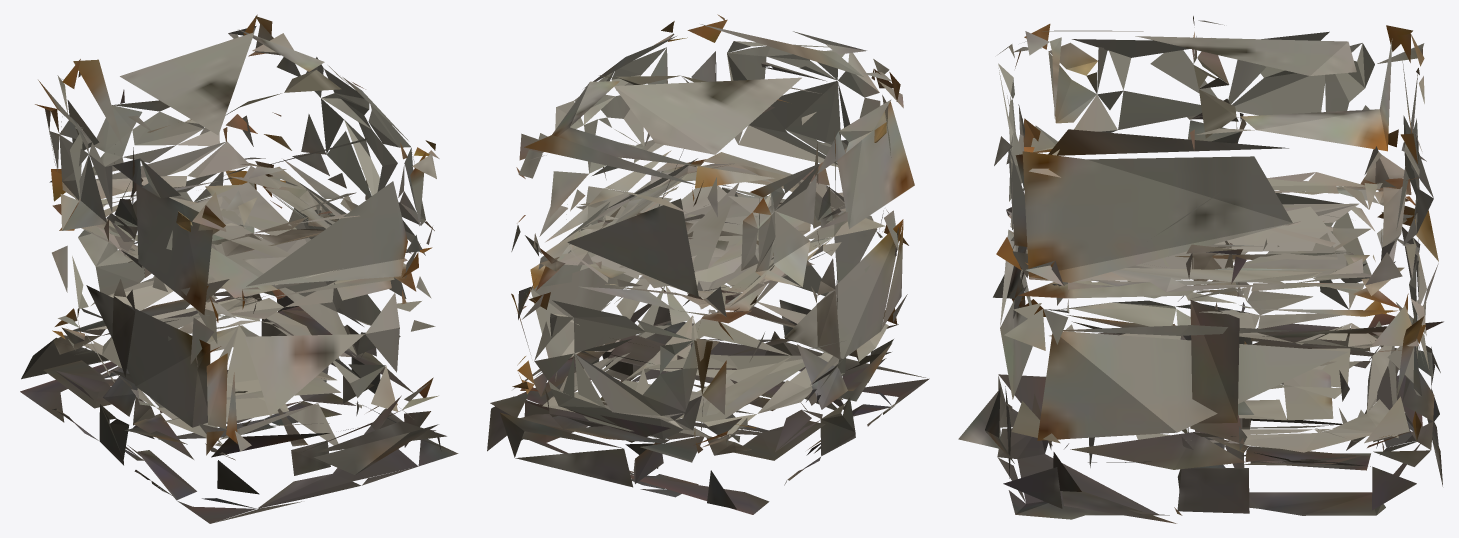
File: caisse-ravitaillement-bas.glb
3 renders of one model, left to right at view 1: azimuth 30°, elevation 25°; view 2: azimuth 150°, elevation 25°; view 3: azimuth 270°, elevation 25°, orthographic. The views are drawn at different scales.
Visible parts, largest first — view 1: caisse-ravitaillement-bas; view 2: caisse-ravitaillement-bas; view 3: caisse-ravitaillement-bas.
Boxes of the visible parts, x1,y1,x2,y2 form: caisse-ravitaillement-bas: [20, 14, 458, 523]; caisse-ravitaillement-bas: [487, 14, 929, 514]; caisse-ravitaillement-bas: [958, 16, 1443, 523].
Bounding box in the file's own units: 1.01 × 1.3 × 1.38.
Materials: 1 (1 with a texture image).
